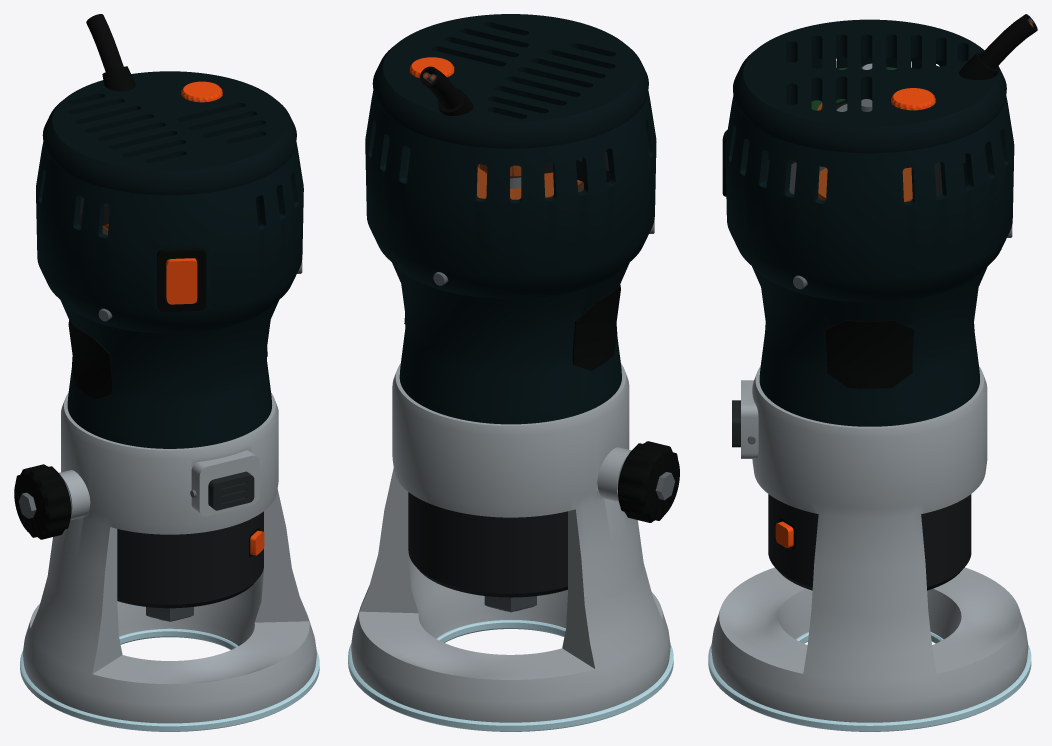
3 renders of one model, left to right at view 1: azimuth 30°, elevation 25°; view 2: azimuth 150°, elevation 25°; view 3: azimuth 270°, elevation 25°, orthographic. The views are drawn at different scales.
Parts seen in each view (by area): view 1: part_009_Twin_column_cast_frame, part_001_Vented_upper_motor_enclosure, part_045_Parallel_grille_top_cover, part_000_Waisted_hand_grip_shell, part_050_Lower_motor_barrel_cup, part_091_Clear_annular_subbase, part_034_Scalloped_depth_adjustment_wheel, part_052_Lateral_elastomer_grip_02, part_032_Side_rocker_mounting_bezel, part_117_Amber_power_rocker, part_046_Motor_release_slider, part_033_Short_power_cord_jacket (+3 smaller); view 2: part_009_Twin_column_cast_frame, part_001_Vented_upper_motor_enclosure, part_045_Parallel_grille_top_cover, part_000_Waisted_hand_grip_shell, part_050_Lower_motor_barrel_cup, part_091_Clear_annular_subbase, part_034_Scalloped_depth_adjustment_wheel, part_052_Lateral_elastomer_grip_02, part_033_Short_power_cord_jacket, part_055_Hexagonal_collet_nut, part_008_Upper_armature_copper_end_turns, part_010_Top_amber_speed_wheel; view 3: part_009_Twin_column_cast_frame, part_001_Vented_upper_motor_enclosure, part_045_Parallel_grille_top_cover, part_000_Waisted_hand_grip_shell, part_050_Lower_motor_barrel_cup, part_053_Lateral_elastomer_grip_01, part_091_Clear_annular_subbase, part_033_Short_power_cord_jacket, part_010_Top_amber_speed_wheel, part_037_Rear_cord_strain_relief, part_008_Upper_armature_copper_end_turns.
Part boxes in pixels (x1=…): part_009_Twin_column_cast_frame: x1=23, y1=392, x2=316, y2=723; part_001_Vented_upper_motor_enclosure: x1=36, y1=142, x2=303, y2=333; part_045_Parallel_grille_top_cover: x1=42, y1=71, x2=296, y2=195; part_000_Waisted_hand_grip_shell: x1=60, y1=300, x2=278, y2=448; part_050_Lower_motor_barrel_cup: x1=117, y1=511, x2=263, y2=608; part_091_Clear_annular_subbase: x1=20, y1=628, x2=319, y2=731; part_034_Scalloped_depth_adjustment_wheel: x1=14, y1=464, x2=71, y2=539; part_052_Lateral_elastomer_grip_02: x1=68, y1=320, x2=112, y2=399; part_032_Side_rocker_mounting_bezel: x1=157, y1=248, x2=206, y2=311; part_117_Amber_power_rocker: x1=166, y1=258, x2=197, y2=304; part_046_Motor_release_slider: x1=208, y1=471, x2=254, y2=510; part_033_Short_power_cord_jacket: x1=86, y1=14, x2=123, y2=71; part_009_Twin_column_cast_frame: x1=351, y1=363, x2=670, y2=722; part_001_Vented_upper_motor_enclosure: x1=365, y1=91, x2=656, y2=298; part_045_Parallel_grille_top_cover: x1=372, y1=14, x2=648, y2=148; part_000_Waisted_hand_grip_shell: x1=392, y1=263, x2=629, y2=424; part_050_Lower_motor_barrel_cup: x1=408, y1=492, x2=567, y2=597; part_091_Clear_annular_subbase: x1=348, y1=620, x2=673, y2=731; part_034_Scalloped_depth_adjustment_wheel: x1=618, y1=441, x2=679, y2=522; part_052_Lateral_elastomer_grip_02: x1=572, y1=284, x2=620, y2=370; part_033_Short_power_cord_jacket: x1=420, y1=66, x2=461, y2=109; part_055_Hexagonal_collet_nut: x1=484, y1=596, x2=536, y2=612; part_008_Upper_armature_copper_end_turns: x1=476, y1=167, x2=553, y2=199; part_010_Top_amber_speed_wheel: x1=409, y1=57, x2=454, y2=78; part_009_Twin_column_cast_frame: x1=711, y1=366, x2=1028, y2=722; part_001_Vented_upper_motor_enclosure: x1=725, y1=57, x2=1014, y2=302; part_045_Parallel_grille_top_cover: x1=733, y1=19, x2=1006, y2=153; part_000_Waisted_hand_grip_shell: x1=752, y1=266, x2=987, y2=426; part_050_Lower_motor_barrel_cup: x1=768, y1=494, x2=971, y2=590; part_053_Lateral_elastomer_grip_01: x1=825, y1=320, x2=913, y2=388; part_091_Clear_annular_subbase: x1=708, y1=632, x2=1031, y2=731; part_033_Short_power_cord_jacket: x1=979, y1=14, x2=1037, y2=68; part_010_Top_amber_speed_wheel: x1=891, y1=88, x2=935, y2=110; part_037_Rear_cord_strain_relief: x1=959, y1=52, x2=999, y2=80; part_008_Upper_armature_copper_end_turns: x1=818, y1=167, x2=912, y2=201.
Size of the model in its own units: 0.11 by 0.2306 by 0.106.
